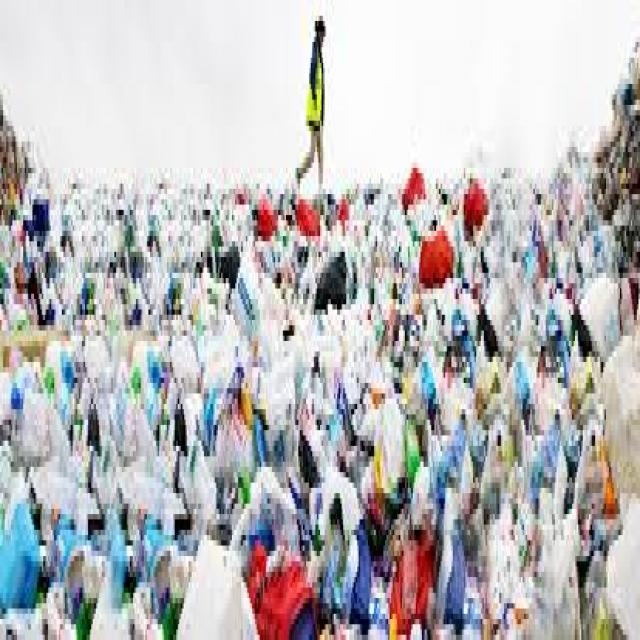heap: (21, 206, 638, 636)
